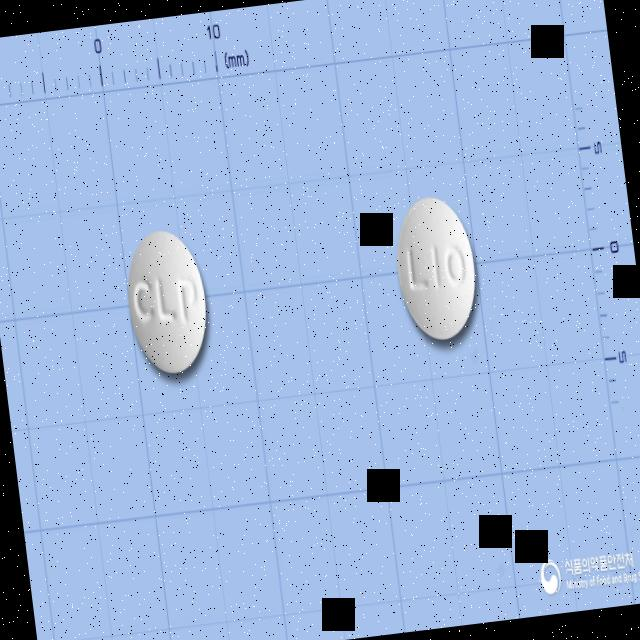Luarva - 20mg: (120, 222, 216, 379), (389, 192, 484, 346)
